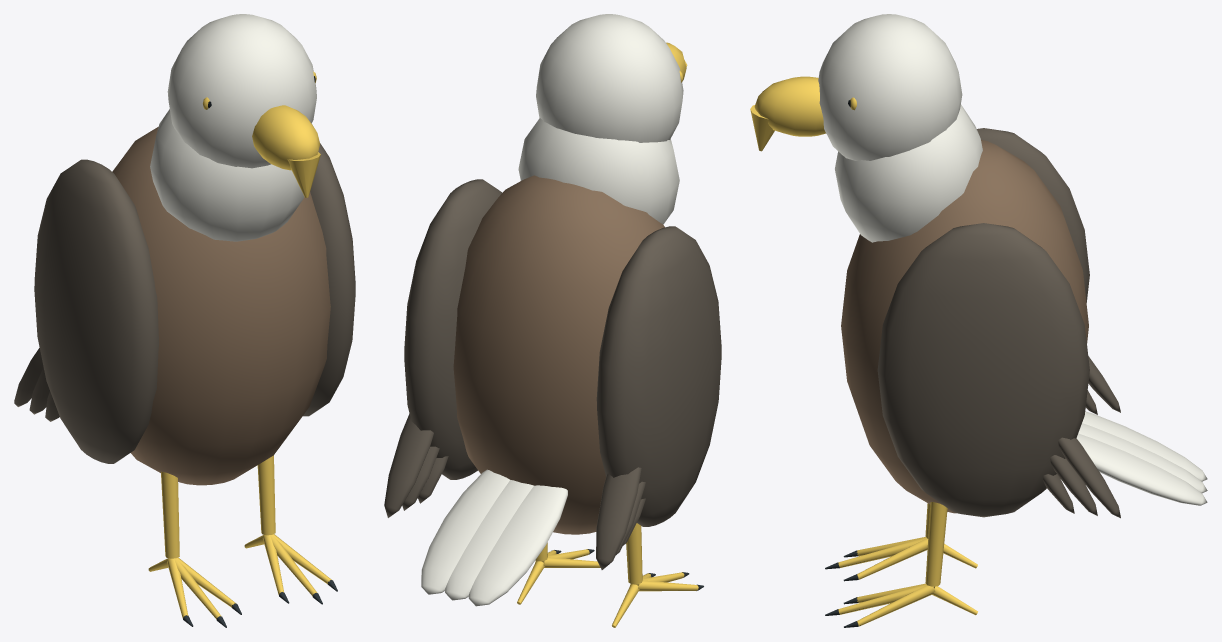
The model's file is bird_bald_eagle.glb.
3 renders of one model, left to right at view 1: azimuth 30°, elevation 25°; view 2: azimuth 150°, elevation 25°; view 3: azimuth 270°, elevation 25°, orthographic.
Visible parts, largest first — view 1: Bald_Eagle_Brown_Body, Bald_Eagle_Folded_Wing_-1, Bald_Eagle_White_Head, Bald_Eagle_White_Neck, Bald_Eagle_Folded_Wing_1, Bald_Eagle_Yellow_Beak_Base, Bald_Eagle_Leg_-1, Bald_Eagle_Leg_1, Bald_Eagle_Wing_Feather_-1_2, Bald_Eagle_Downturned_Beak_Hook, Bald_Eagle_Front_Toe_-1_1, Bald_Eagle_Front_Toe_1_1 (+5 smaller); view 2: Bald_Eagle_Brown_Body, Bald_Eagle_Folded_Wing_-1, Bald_Eagle_White_Head, Bald_Eagle_Folded_Wing_1, Bald_Eagle_White_Neck, Bald_Eagle_White_Tail_0, Bald_Eagle_White_Tail_2, Bald_Eagle_White_Tail_1, Bald_Eagle_Wing_Feather_-1_2, Bald_Eagle_Wing_Feather_1_2, Bald_Eagle_Leg_-1, Bald_Eagle_Wing_Feather_1_1 (+3 smaller); view 3: Bald_Eagle_Folded_Wing_1, Bald_Eagle_Brown_Body, Bald_Eagle_White_Head, Bald_Eagle_White_Neck, Bald_Eagle_White_Tail_2, Bald_Eagle_Yellow_Beak_Base, Bald_Eagle_Folded_Wing_-1, Bald_Eagle_Wing_Feather_1_2, Bald_Eagle_White_Tail_0, Bald_Eagle_White_Tail_1, Bald_Eagle_Leg_1, Bald_Eagle_Wing_Feather_1_1 (+5 smaller).
Boxes of the visible parts, <box> form: Bald_Eagle_Brown_Body: <box>112,127,330,485</box>; Bald_Eagle_Folded_Wing_-1: <box>34,159,158,463</box>; Bald_Eagle_White_Head: <box>167,14,316,168</box>; Bald_Eagle_White_Neck: <box>150,109,304,241</box>; Bald_Eagle_Folded_Wing_1: <box>303,143,355,416</box>; Bald_Eagle_Yellow_Beak_Base: <box>252,105,319,170</box>; Bald_Eagle_Leg_-1: <box>161,471,179,558</box>; Bald_Eagle_Leg_1: <box>257,455,275,535</box>; Bald_Eagle_Wing_Feather_-1_2: <box>14,348,43,406</box>; Bald_Eagle_Downturned_Beak_Hook: <box>287,152,320,197</box>; Bald_Eagle_Front_Toe_-1_1: <box>169,558,221,619</box>; Bald_Eagle_Front_Toe_1_1: <box>265,535,317,595</box>; Bald_Eagle_Brown_Body: <box>453,175,664,534</box>; Bald_Eagle_Folded_Wing_-1: <box>596,226,721,526</box>; Bald_Eagle_White_Head: <box>536,14,683,142</box>; Bald_Eagle_Folded_Wing_1: <box>404,179,502,479</box>; Bald_Eagle_White_Neck: <box>518,118,679,224</box>; Bald_Eagle_White_Tail_0: <box>468,485,567,606</box>; Bald_Eagle_White_Tail_2: <box>421,469,509,594</box>; Bald_Eagle_White_Tail_1: <box>445,480,533,600</box>; Bald_Eagle_Wing_Feather_-1_2: <box>596,467,641,569</box>; Bald_Eagle_Wing_Feather_1_2: <box>384,413,433,517</box>; Bald_Eagle_Leg_-1: <box>626,523,642,584</box>; Bald_Eagle_Wing_Feather_1_1: <box>402,446,439,510</box>; Bald_Eagle_Folded_Wing_1: <box>877,223,1089,517</box>; Bald_Eagle_Brown_Body: <box>841,139,1088,513</box>; Bald_Eagle_White_Head: <box>818,14,962,160</box>; Bald_Eagle_White_Neck: <box>835,104,982,242</box>; Bald_Eagle_White_Tail_2: <box>1076,433,1207,505</box>; Bald_Eagle_Yellow_Beak_Base: <box>754,76,825,136</box>; Bald_Eagle_Folded_Wing_-1: <box>977,128,1089,302</box>; Bald_Eagle_Wing_Feather_1_2: <box>1058,437,1120,518</box>; Bald_Eagle_White_Tail_0: <box>1082,411,1207,481</box>; Bald_Eagle_White_Tail_1: <box>1078,423,1207,493</box>; Bald_Eagle_Leg_1: <box>925,502,947,586</box>; Bald_Eagle_Wing_Feather_1_1: <box>1050,455,1097,515</box>.
Bounding box in the file's own units: 0.346 × 0.708 × 0.5127.
